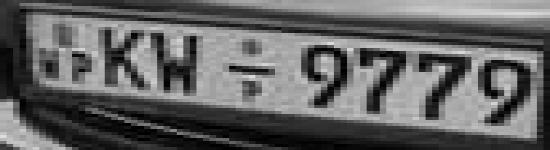-: (223, 62, 278, 78)
7: (412, 48, 475, 122), (353, 46, 413, 117)
9: (475, 56, 538, 127), (294, 41, 354, 112)
K: (95, 24, 154, 91)
P: (71, 50, 95, 84)
W: (150, 30, 208, 98), (33, 47, 66, 83)
